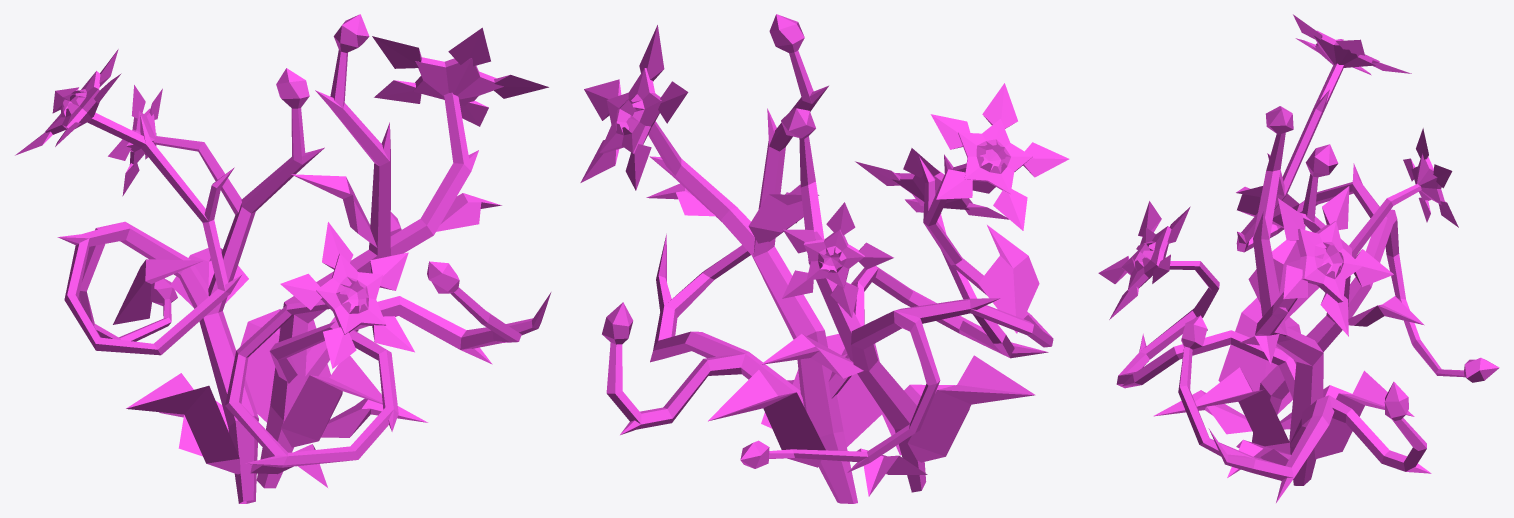
The model's file is SM_Bush_Thorns_Big_B_Fantasy.fbx.
3 renders of one model, left to right at view 1: azimuth 30°, elevation 25°; view 2: azimuth 150°, elevation 25°; view 3: azimuth 270°, elevation 25°, orthographic. The views are drawn at different scales.
Visible parts, largest first — view 1: SM_Bush_Thorns_Big_B_Fantasy; view 2: SM_Bush_Thorns_Big_B_Fantasy; view 3: SM_Bush_Thorns_Big_B_Fantasy.
Boxes of the visible parts, bbox=[...] form: SM_Bush_Thorns_Big_B_Fantasy: bbox=[15, 14, 551, 503]; SM_Bush_Thorns_Big_B_Fantasy: bbox=[580, 14, 1069, 503]; SM_Bush_Thorns_Big_B_Fantasy: bbox=[1098, 14, 1499, 502].
Size of the model in its own units: 2.04 by 1.84 by 1.63.
